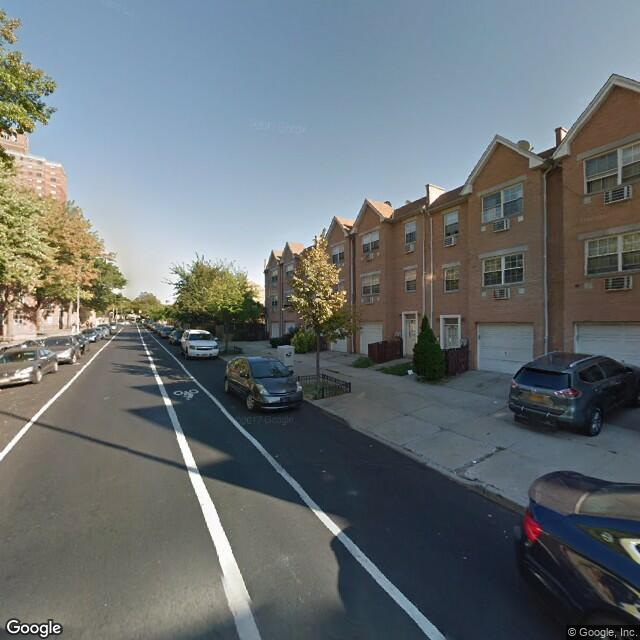litter: (407, 367, 414, 377), (74, 361, 82, 367), (471, 458, 478, 464), (322, 469, 327, 474), (494, 400, 499, 404)
